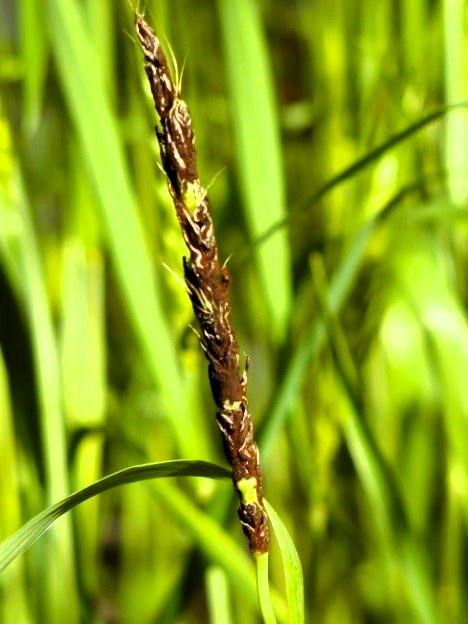Wheat Loose Smut: (167, 205, 278, 471)
